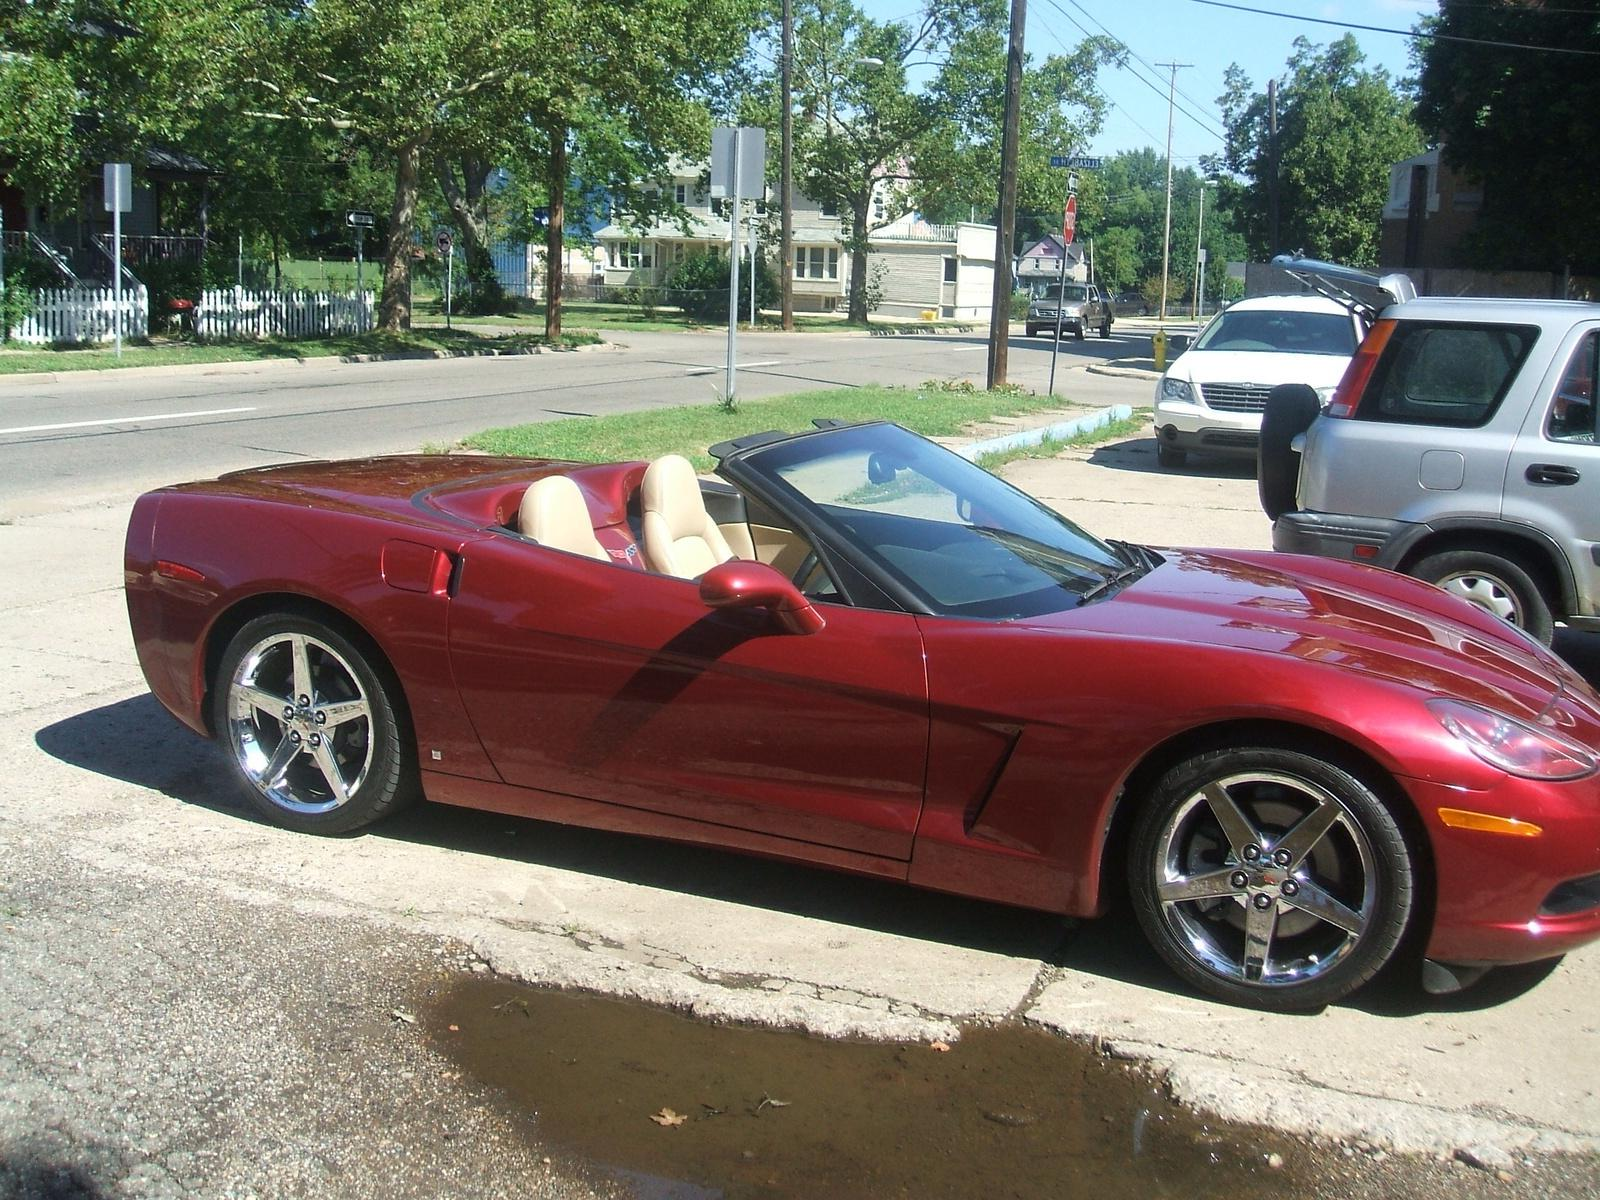Car: (54, 401, 1600, 1053), (1134, 255, 1414, 494)
